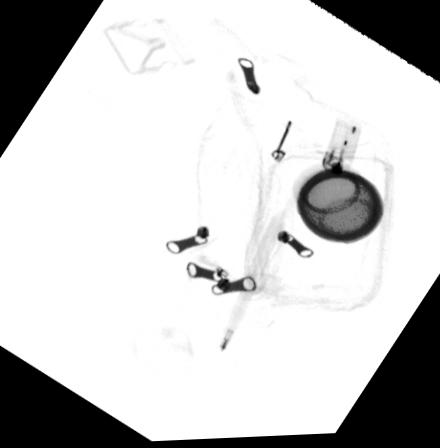Lighter: (320, 122, 361, 179)
